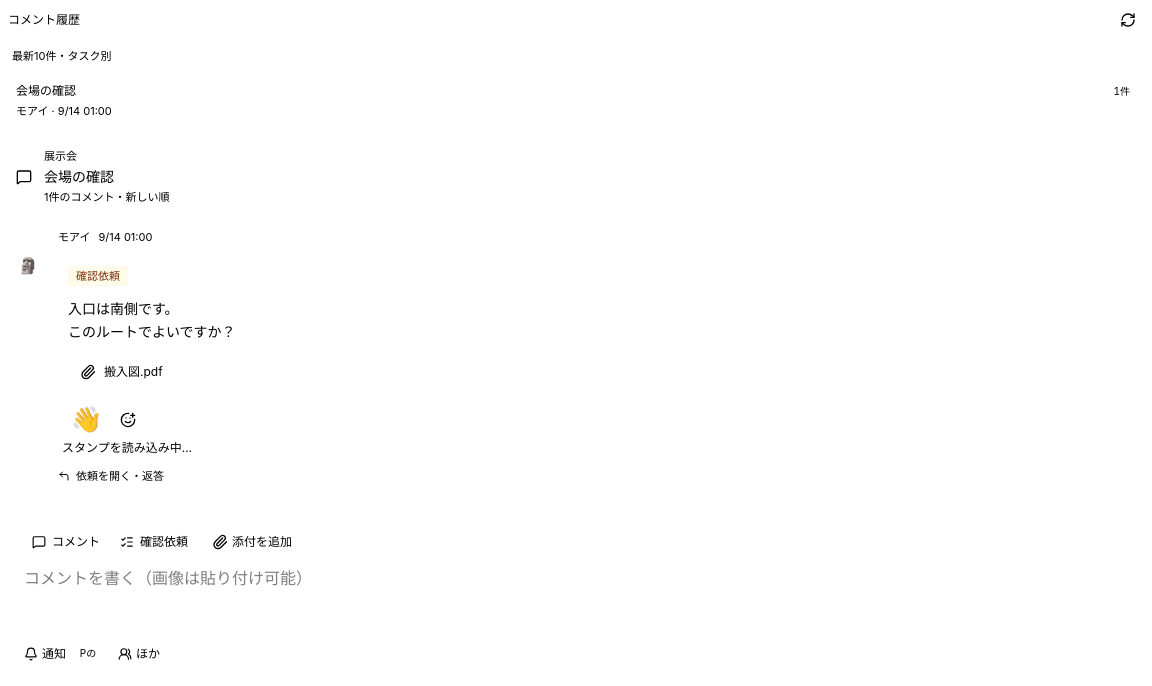
Test: retains saved author icons and uses a neutral fallback when author metadata is missing
Check: the text "🗿" is shown, box 18,256 -> 38,276
Click the button named "コメントを更新": (1128, 20) 1112,4 -> 1144,36
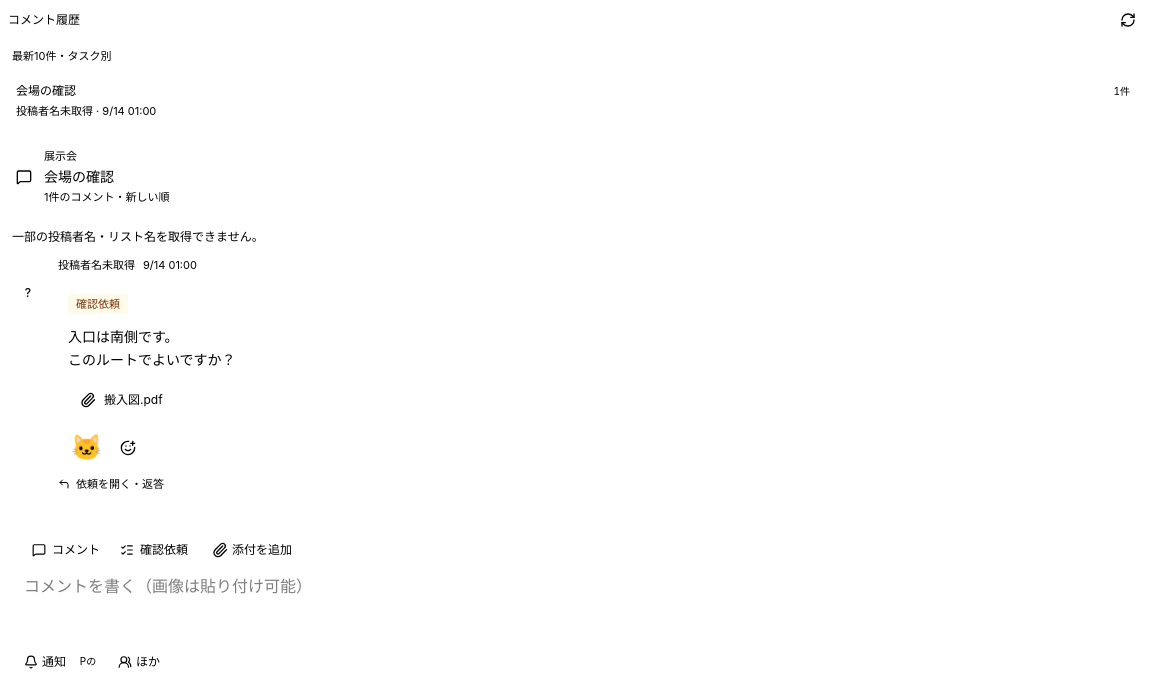
Check: the text "?" is shown, box 25,286 -> 31,300
Check: the text "🗿" is gone
Check: the element named "コメントの内容" shows "投稿者名未取得", box 58,258 -> 135,272
